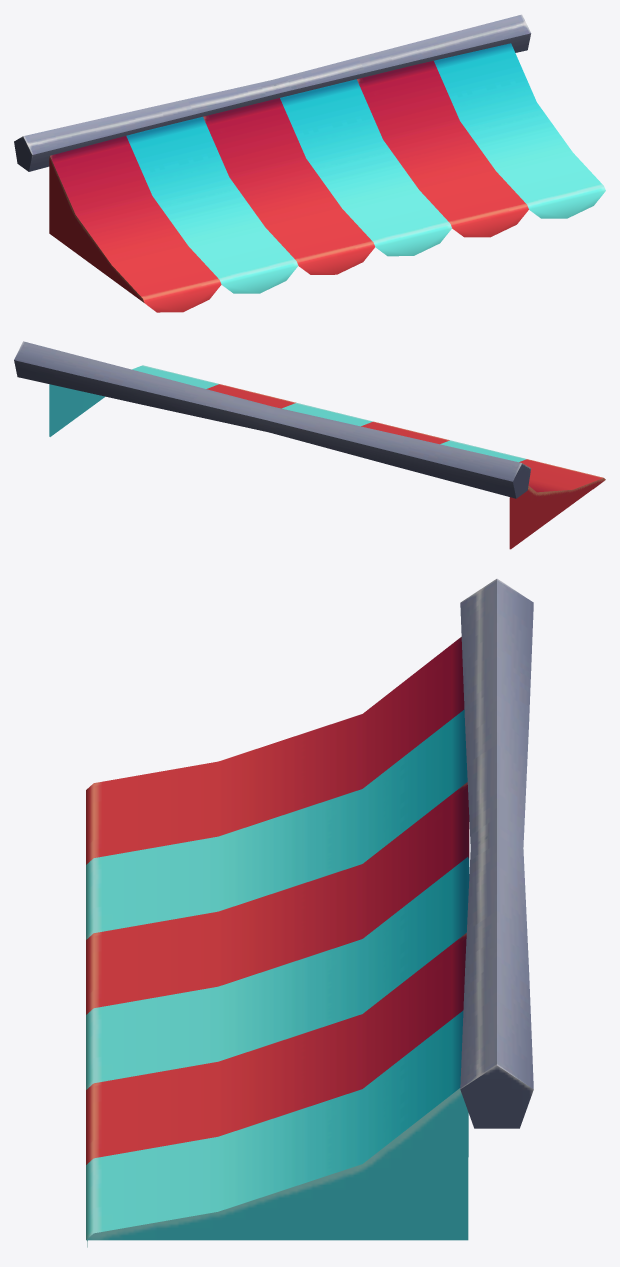
Rendered from Awning.fbx.
3 renders of one model, top to bottom at view 1: azimuth 30°, elevation 25°; view 2: azimuth 150°, elevation 25°; view 3: azimuth 270°, elevation 25°, orthographic. The views are drawn at different scales.
Parts seen in each view (by area): view 1: Awning; view 2: Awning; view 3: Awning.
Boxes of the visible parts, x1,y1,x2,y2 form: Awning: (14, 14, 605, 312); Awning: (14, 341, 605, 549); Awning: (86, 578, 533, 1247).
Bounding box in the file's own units: 121 × 26.68 × 47.11.
1 material, 1 textured.
